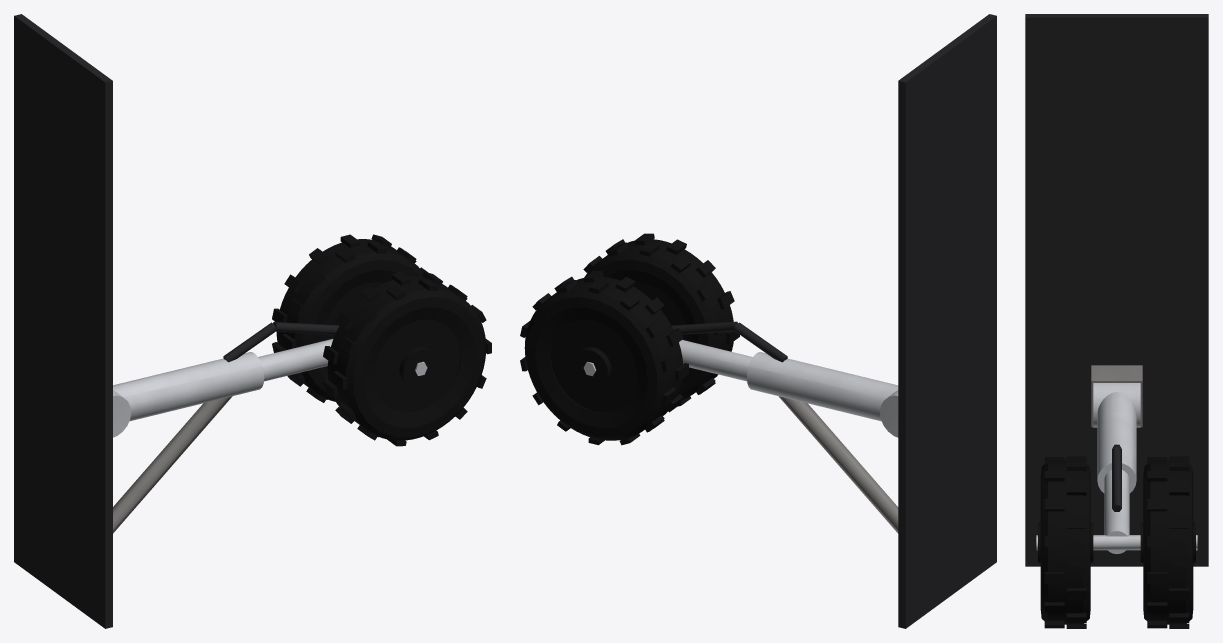
Rendered from jet10_landing_gear_m_deployed.glb.
3 views of the same model, side by side, from view 1: azimuth 30°, elevation 25°; view 2: azimuth 150°, elevation 25°; view 3: azimuth 270°, elevation 25° (orthographic).
Parts seen in each view (by area): view 1: mount_plate, wheel_1, wheel_2, oleo_strut, drag_brace, torque_links; view 2: mount_plate, wheel_2, wheel_1, oleo_strut, drag_brace, torque_links; view 3: mount_plate, wheel_1, wheel_2, oleo_strut, trunnion, axle, torque_links.
Part boxes in pixels (box(x1,y1,x2,y2)): mount_plate: box(14, 14, 112, 628); wheel_1: box(323, 272, 491, 446); wheel_2: box(272, 234, 428, 402); oleo_strut: box(113, 339, 333, 437); drag_brace: box(113, 396, 232, 533); torque_links: box(223, 321, 339, 362); mount_plate: box(898, 14, 996, 628); wheel_2: box(520, 271, 688, 445); wheel_1: box(583, 233, 739, 406); oleo_strut: box(679, 340, 898, 437); drag_brace: box(779, 396, 898, 533); torque_links: box(671, 321, 787, 362); mount_plate: box(1025, 14, 1208, 566); wheel_1: box(1038, 456, 1093, 628); wheel_2: box(1140, 456, 1195, 628); oleo_strut: box(1093, 383, 1140, 553); trunnion: box(1091, 365, 1142, 427); axle: box(1036, 535, 1197, 550); torque_links: box(1112, 444, 1121, 511).
Bounding box in the file's own units: 2.11 × 2.77 × 0.84.
Materials: 4 (2 with a texture image).
